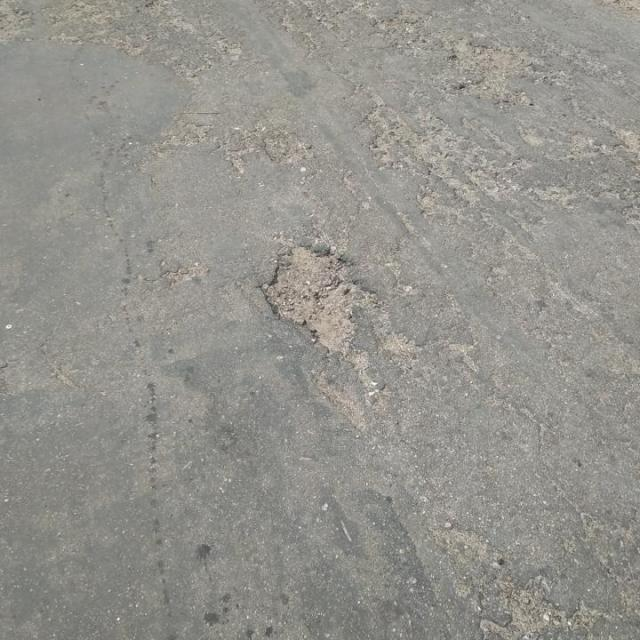pothole: (266, 242, 383, 354), (450, 36, 530, 106)
